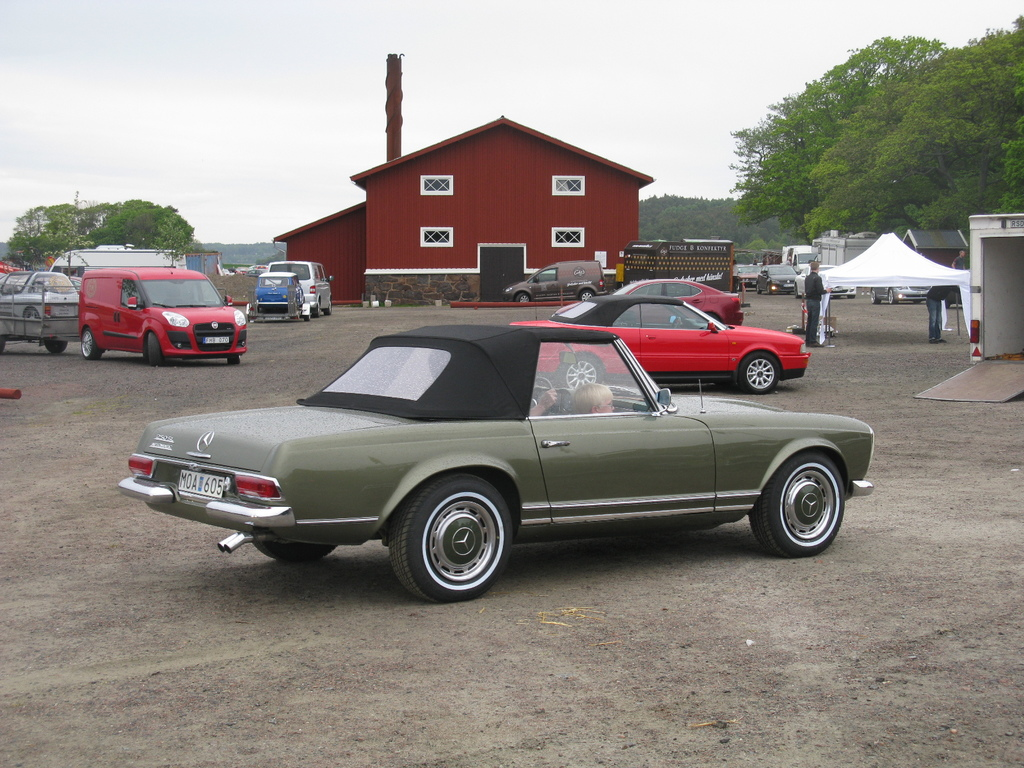Car: (112, 312, 867, 599), (506, 292, 811, 396), (76, 262, 252, 365), (549, 272, 744, 329), (499, 259, 608, 305), (0, 270, 78, 321), (268, 259, 331, 316), (252, 268, 309, 323)
